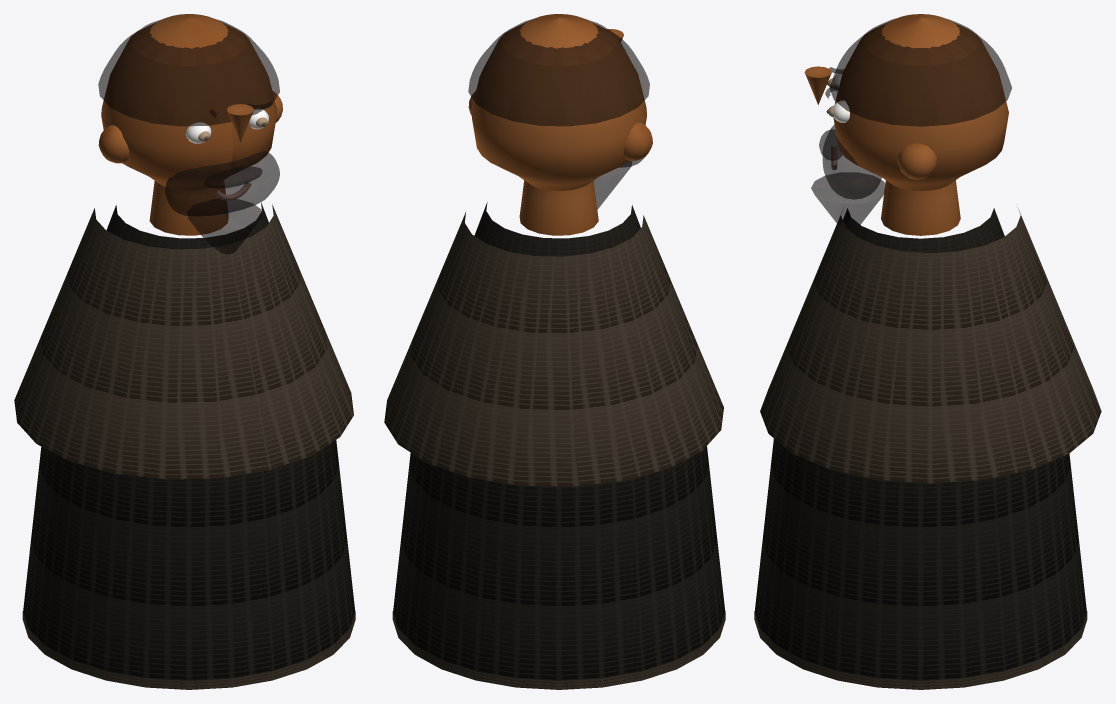
Rendered from simon_leper.glb.
The picture shows the model from 3 angles, left to right: view 1: azimuth 30°, elevation 25°; view 2: azimuth 150°, elevation 25°; view 3: azimuth 270°, elevation 25°; orthographic projection.
Visible parts, largest first — view 1: Character_simon_the_leper, head; view 2: Character_simon_the_leper, head; view 3: Character_simon_the_leper, head.
Part boxes in pixels (box(x1,y1,x2,y2)): Character_simon_the_leper: box(14, 18, 355, 689); head: box(101, 14, 276, 190); Character_simon_the_leper: box(384, 18, 725, 689); head: box(471, 14, 646, 190); Character_simon_the_leper: box(754, 18, 1101, 689); head: box(833, 14, 1008, 190).
Size of the model in its own units: 0.9257 by 1.8 by 0.9411.
Materials: 8 (4 with a texture image).
